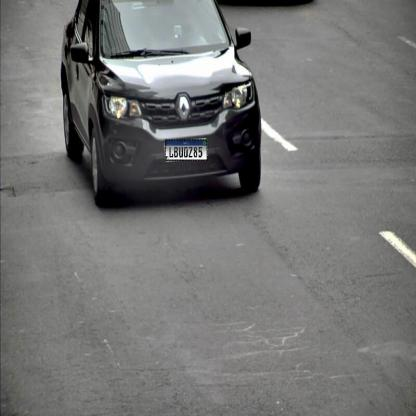PlacaM: (165, 139, 207, 161)
